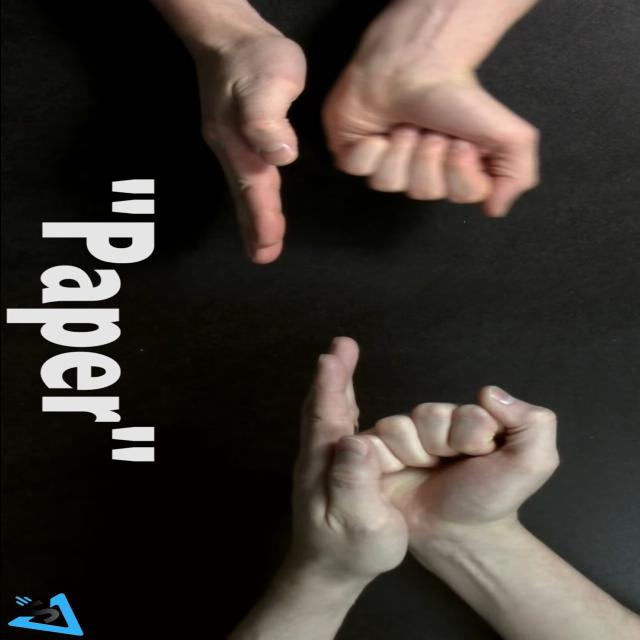Rock: (323, 68, 540, 220), (358, 388, 558, 552)
